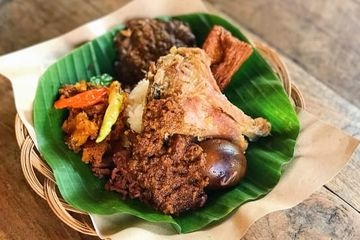gudeg: (55, 19, 271, 215)
